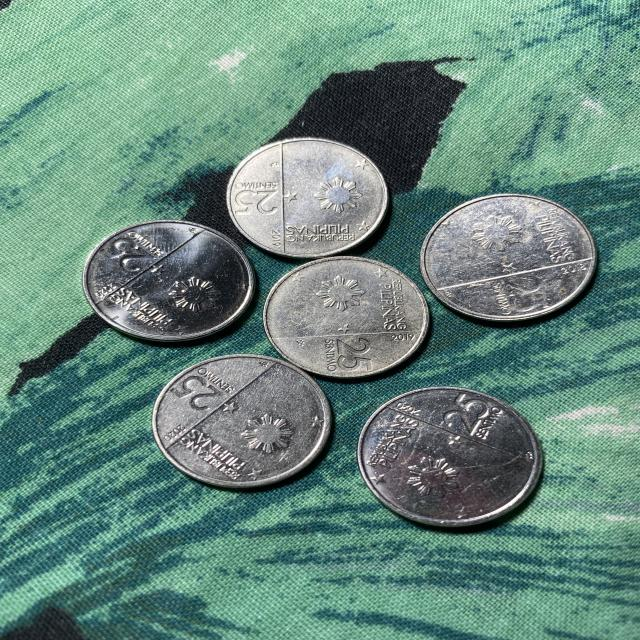25Cent_New_Front: (436, 393, 488, 430), (501, 275, 549, 313), (171, 375, 221, 411), (331, 334, 374, 372), (100, 238, 152, 269), (234, 189, 277, 216)
